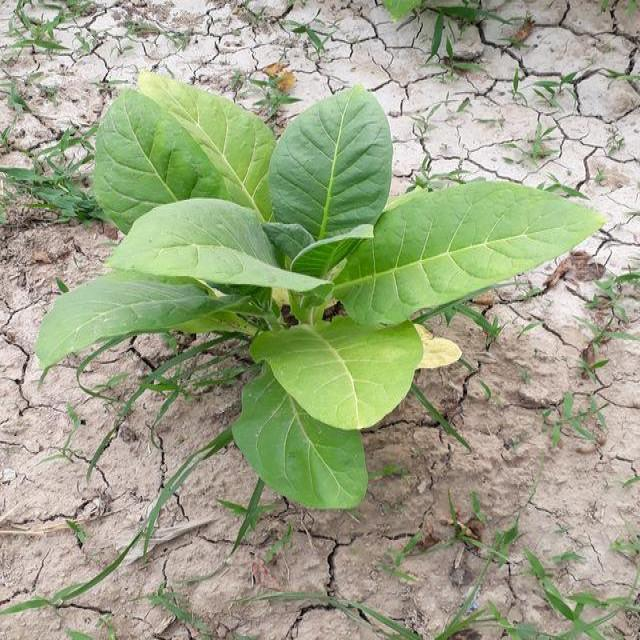crop: (38, 76, 611, 514)
